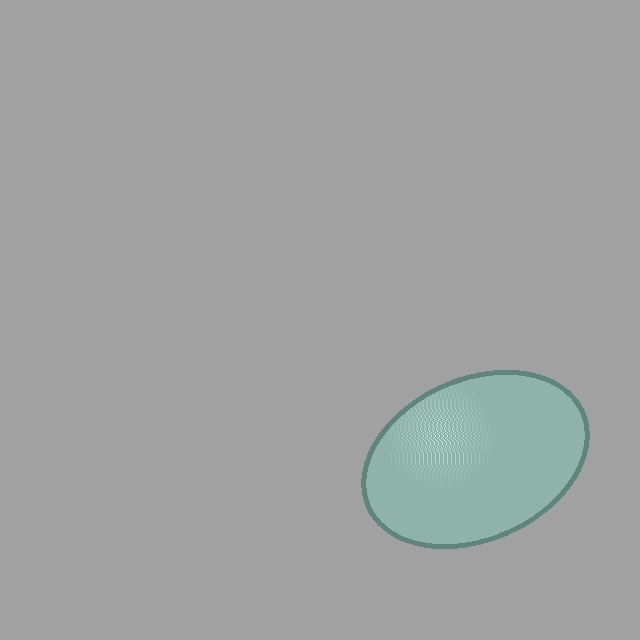lens: (363, 372, 587, 546)
